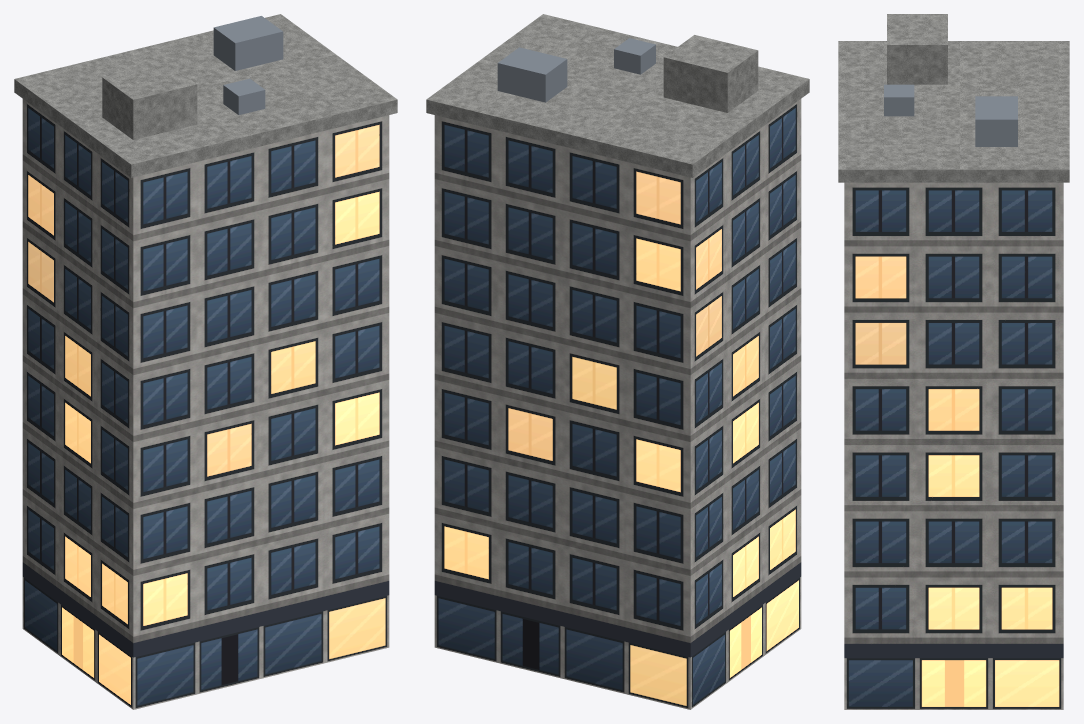
File: predio.glb
3 views of the same model, side by side, from view 1: azimuth 30°, elevation 25°; view 2: azimuth 150°, elevation 25°; view 3: azimuth 270°, elevation 25° (orthographic).
Visible parts, largest first — view 1: frente, lados, cobertura, equipamentos; view 2: frente, lados, cobertura, equipamentos; view 3: lados, cobertura, equipamentos.
Boxes of the visible parts, x1,y1,x2,y2 form: frente: (133, 115, 389, 709); lados: (22, 99, 133, 709); cobertura: (14, 14, 397, 177); equipamentos: (213, 16, 283, 114); frente: (434, 115, 690, 709); lados: (690, 99, 801, 709); cobertura: (426, 14, 809, 177); equipamentos: (497, 38, 655, 102); lados: (844, 182, 1063, 709); cobertura: (838, 14, 1069, 182); equipamentos: (884, 84, 1017, 146).
Size of the model in its own units: 5 by 10.56 by 3.8.
Materials: 4 (3 with a texture image).
